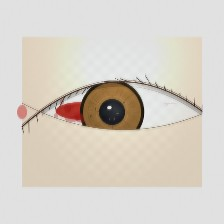hemorrhage_spot: (45, 79, 124, 143)
